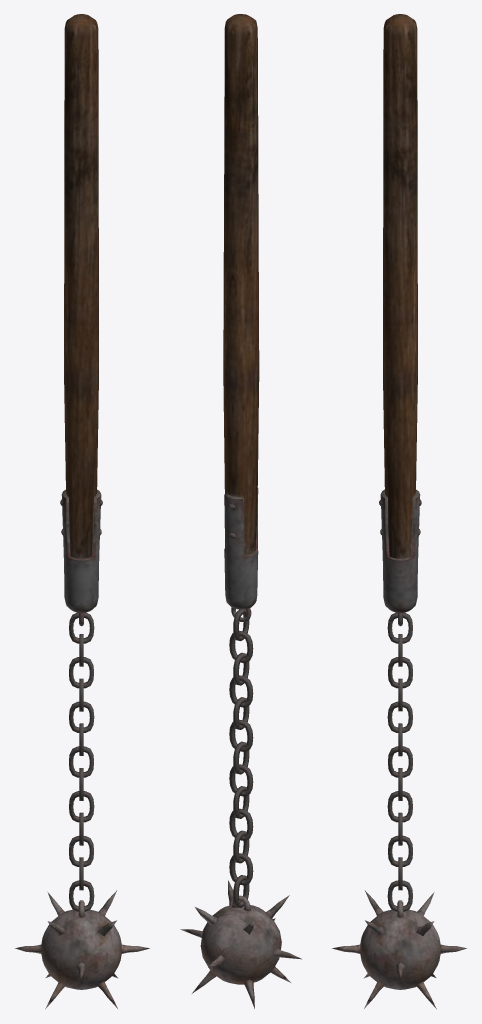
The model's file is weapon-wp_a_1250.glb.
The picture shows the model from 3 angles, left to right: view 1: azimuth 90°, elevation 25°; view 2: azimuth 150°, elevation 25°; view 3: azimuth 270°, elevation 25°; orthographic projection.
Visible parts, largest first — view 1: wp_a_1250_mesh; view 2: wp_a_1250_mesh; view 3: wp_a_1250_mesh.
Part boxes in pixels (x1=…): wp_a_1250_mesh: x1=15, y1=14, x2=149, y2=1009; wp_a_1250_mesh: x1=180, y1=14, x2=301, y2=1008; wp_a_1250_mesh: x1=332, y1=14, x2=466, y2=1009.
Size of the model in its own units: 0.1436 by 1.08 by 0.1368.
1 material, 1 textured.
